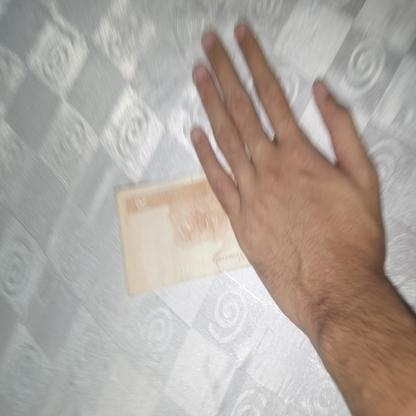twenty-back-vef: (115, 165, 253, 296)
